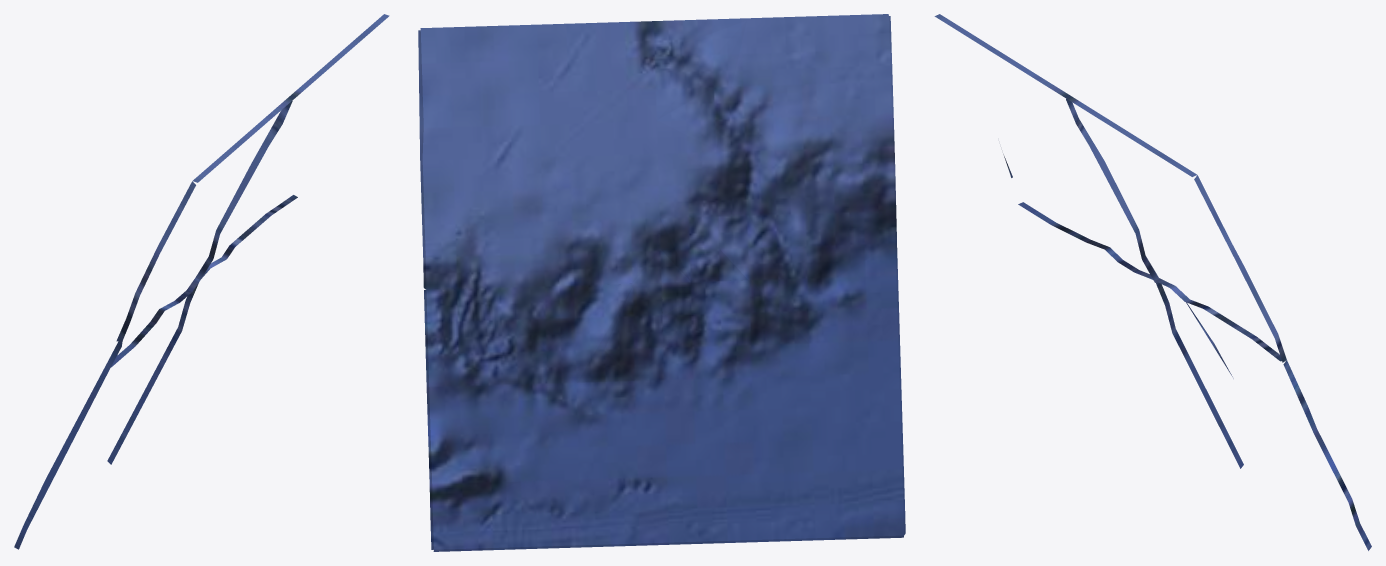
The picture shows the model from 3 angles, left to right: view 1: azimuth 30°, elevation 25°; view 2: azimuth 150°, elevation 25°; view 3: azimuth 270°, elevation 25°; orthographic projection. The views are drawn at different scales.
Size of the model in its own units: 77130 by 72182 by 67316.
Materials: 1 (1 with a texture image).
